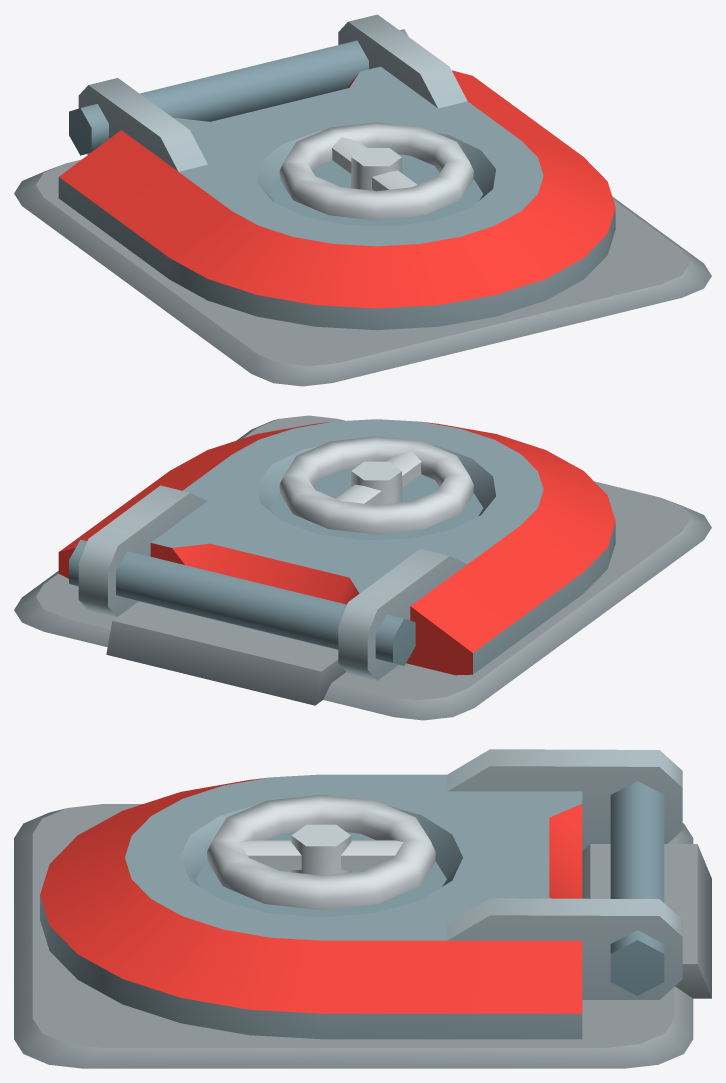
Rendered from Hatch_008.glb.
The picture shows the model from 3 angles, top to bottom: view 1: azimuth 30°, elevation 25°; view 2: azimuth 150°, elevation 25°; view 3: azimuth 270°, elevation 25°; orthographic projection. The views are drawn at different scales.
Parts seen in each view (by area): view 1: Hatch_008; view 2: Hatch_008; view 3: Hatch_008.
Boxes of the visible parts, x1,y1,x2,y2 form: Hatch_008: (14, 14, 711, 386); Hatch_008: (14, 415, 711, 720); Hatch_008: (14, 749, 711, 1068).
Size of the model in its own units: 0.8747 by 0.1728 by 0.9925.
1 material, 1 textured.
